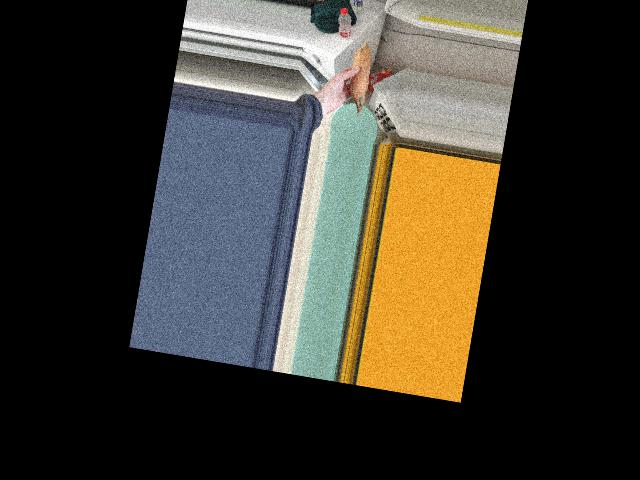sweet_potato: (340, 50, 373, 113)
